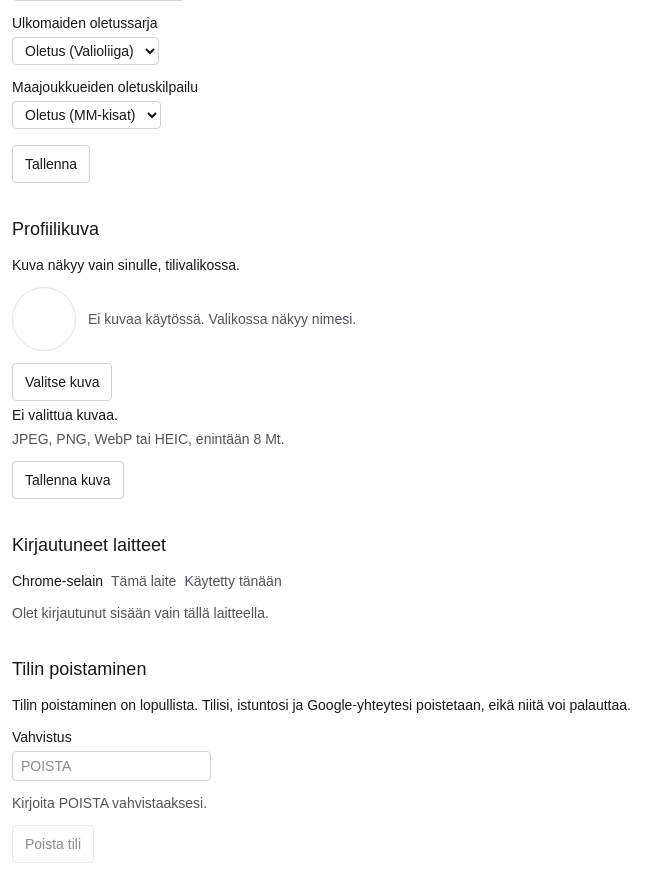
Test case: deleting the account › keeps the button disabled until the word is exact
(page scrolled)
Expected: the button "Poista tili" is disabled, [12,825,94,863]
Type "POIST" into the field labelled "Vahvistus" at (112, 766), box [12,751,211,781]
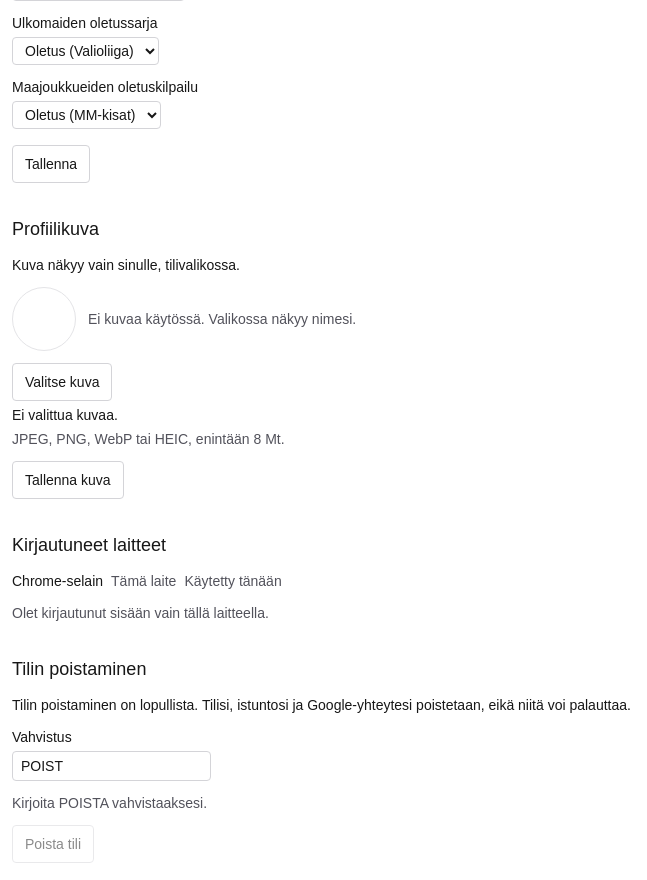
Expected: the button "Poista tili" is disabled, [12,825,94,863]
Replace the text in the field labelled "Vahvistus" with "POISTA" at (112, 766), box [12,751,211,781]
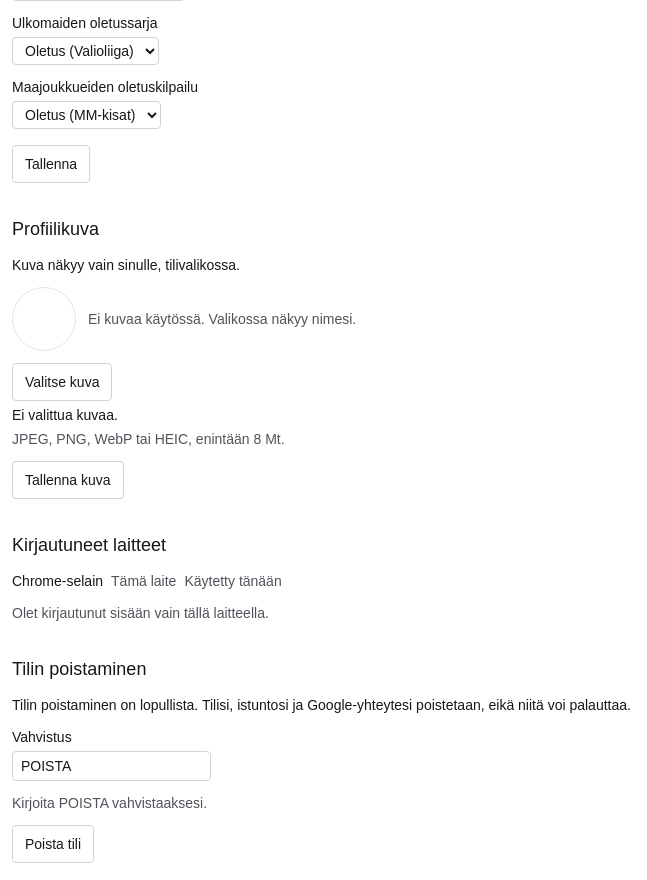
Expected: the button "Poista tili" is enabled, [12,825,94,863]
